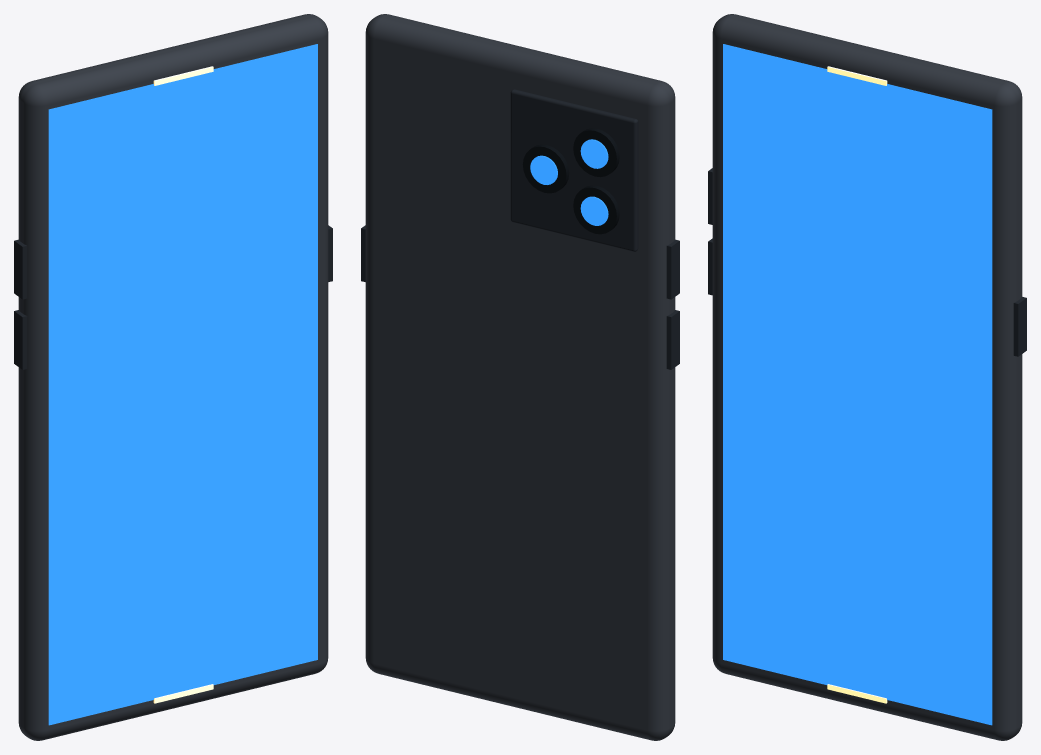
File: artifact.glb
3 views of the same model, side by side, from view 1: azimuth 30°, elevation 25°; view 2: azimuth 150°, elevation 25°; view 3: azimuth 330°, elevation 25° (orthographic).
Visible parts, largest first — view 1: device.screen, device.body, device.button.volume-up, device.button.volume-down; view 2: device.body, device.camera-island, device.lens.000, device.lens.001, device.lens.002, device.button.volume-up, device.button.volume-down, device.lens-glass.001, device.lens-glass.000, device.lens-glass.002; view 3: device.screen, device.body, device.button.power.
Boxes of the visible parts, bbox=[...] form: device.screen: bbox=[48, 44, 317, 725]; device.body: bbox=[18, 14, 328, 740]; device.button.volume-up: bbox=[14, 239, 27, 299]; device.button.volume-down: bbox=[14, 310, 27, 369]; device.body: bbox=[365, 14, 675, 740]; device.camera-island: bbox=[510, 89, 638, 251]; device.lens.000: bbox=[573, 128, 619, 177]; device.lens.001: bbox=[573, 185, 619, 234]; device.lens.002: bbox=[522, 144, 569, 193]; device.button.volume-up: bbox=[666, 239, 679, 299]; device.button.volume-down: bbox=[666, 310, 679, 369]; device.lens-glass.001: bbox=[580, 196, 608, 225]; device.lens-glass.000: bbox=[580, 139, 608, 168]; device.lens-glass.002: bbox=[530, 155, 557, 184]; device.screen: bbox=[723, 44, 992, 725]; device.body: bbox=[712, 14, 1022, 740]; device.button.power: bbox=[1013, 296, 1026, 356].
Size of the model in its own units: 0.0738 by 0.149 by 0.0113.
